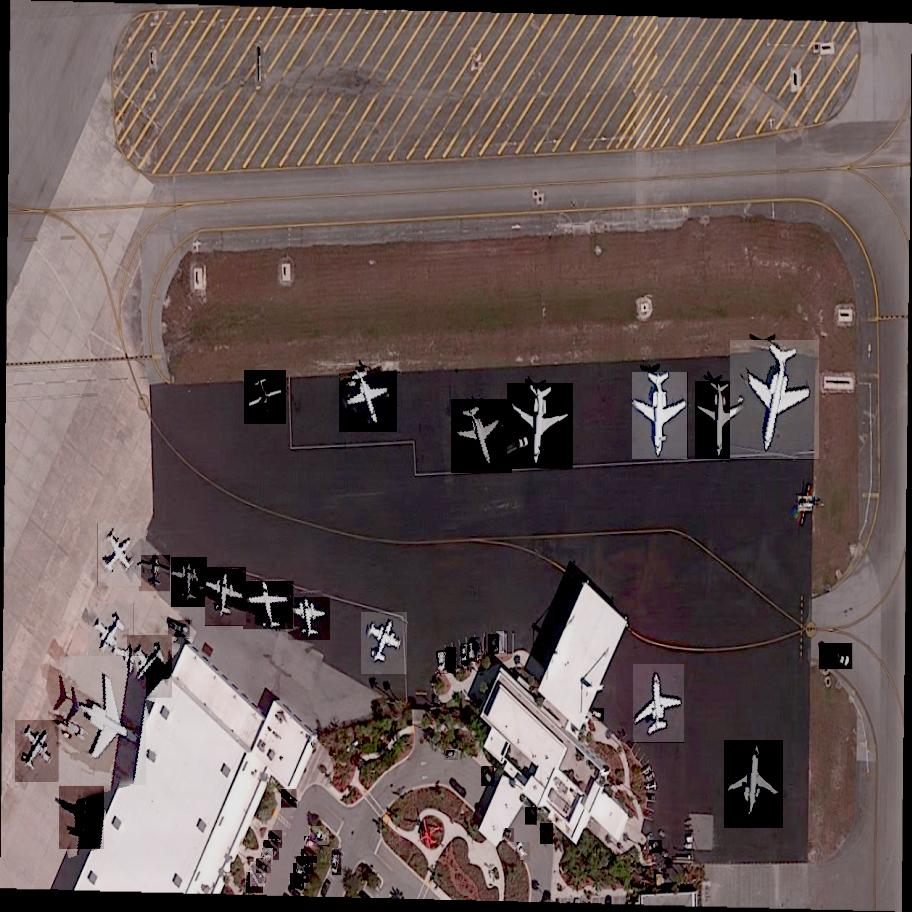large-vehicle: (816, 643, 854, 671), (502, 439, 535, 460), (165, 620, 192, 638)
plane: (55, 657, 155, 785), (731, 340, 823, 462), (507, 383, 575, 470), (724, 740, 786, 829), (633, 371, 689, 460), (451, 399, 514, 473), (46, 786, 117, 849), (631, 665, 686, 742), (79, 604, 143, 670), (339, 365, 398, 433), (89, 523, 151, 586), (695, 382, 744, 459), (8, 720, 68, 782), (120, 636, 178, 698), (358, 612, 409, 674), (242, 371, 290, 425), (204, 567, 248, 625), (244, 582, 293, 629), (288, 594, 330, 643), (171, 558, 206, 607), (138, 556, 171, 592)
small-vehicle: (301, 836, 324, 858), (308, 826, 331, 846), (290, 864, 311, 884), (249, 862, 266, 886), (245, 872, 263, 894), (279, 790, 299, 809), (262, 841, 281, 861), (265, 830, 283, 850), (296, 856, 316, 874), (514, 842, 531, 862), (540, 824, 555, 845), (481, 766, 496, 787), (473, 637, 487, 658), (288, 874, 305, 890), (524, 807, 539, 825), (253, 859, 271, 874), (300, 849, 319, 863), (446, 647, 456, 673), (261, 848, 275, 866), (488, 635, 500, 655), (333, 849, 342, 875), (496, 631, 506, 654), (500, 828, 516, 842), (648, 840, 664, 853), (591, 709, 607, 721), (468, 643, 478, 662), (439, 652, 447, 674), (445, 750, 459, 761), (461, 645, 469, 663)
